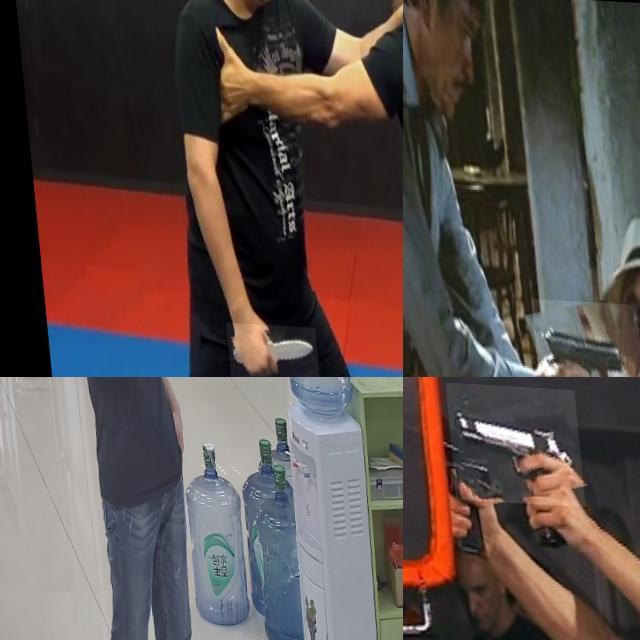-: (216, 320, 309, 377)
gun-knife-thesis - v11 Yolov5 augmented: (442, 379, 580, 502), (403, 393, 485, 545), (524, 295, 640, 377), (178, 377, 249, 422)
